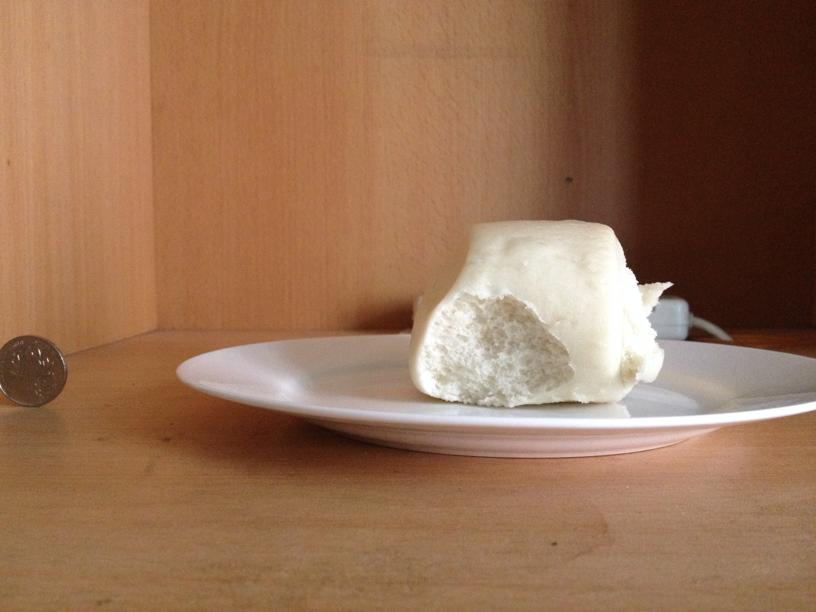bun: (402, 220, 662, 407)
coin: (4, 333, 47, 409)
